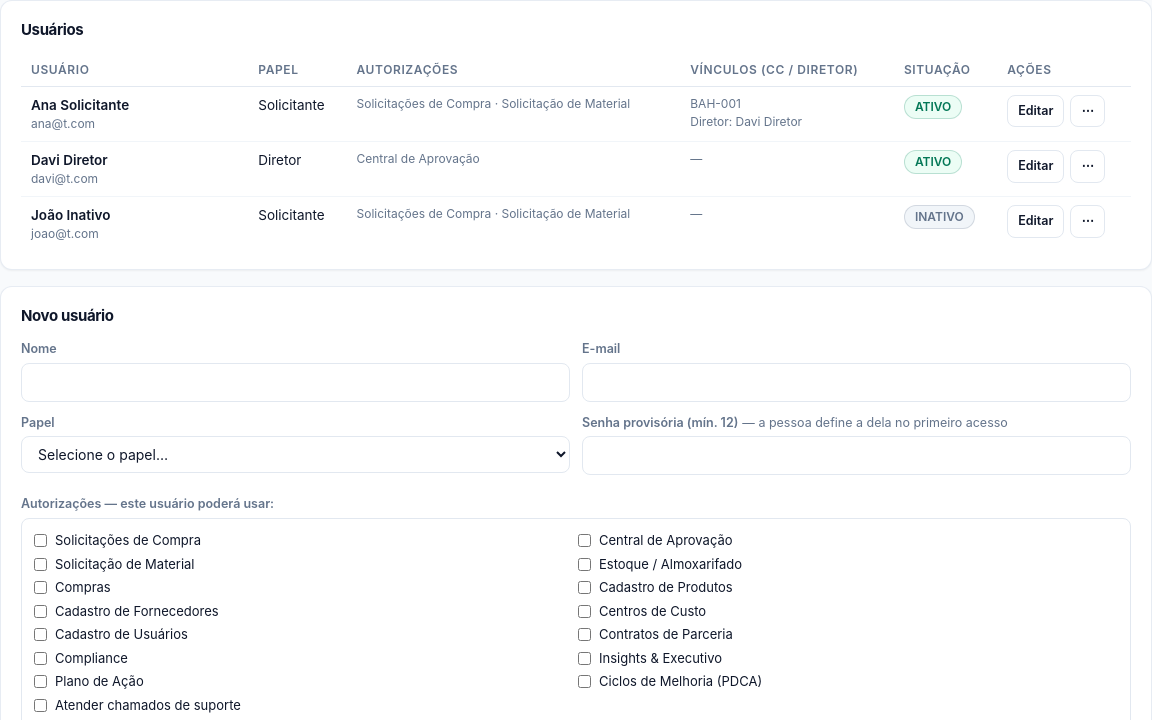
Test case: <Usuarios /> › escolher o papel sugere as autorizações daquele papel
Select "Aprovador" in the dropdown labelled "Papel": (296, 455) [21, 436, 570, 473]
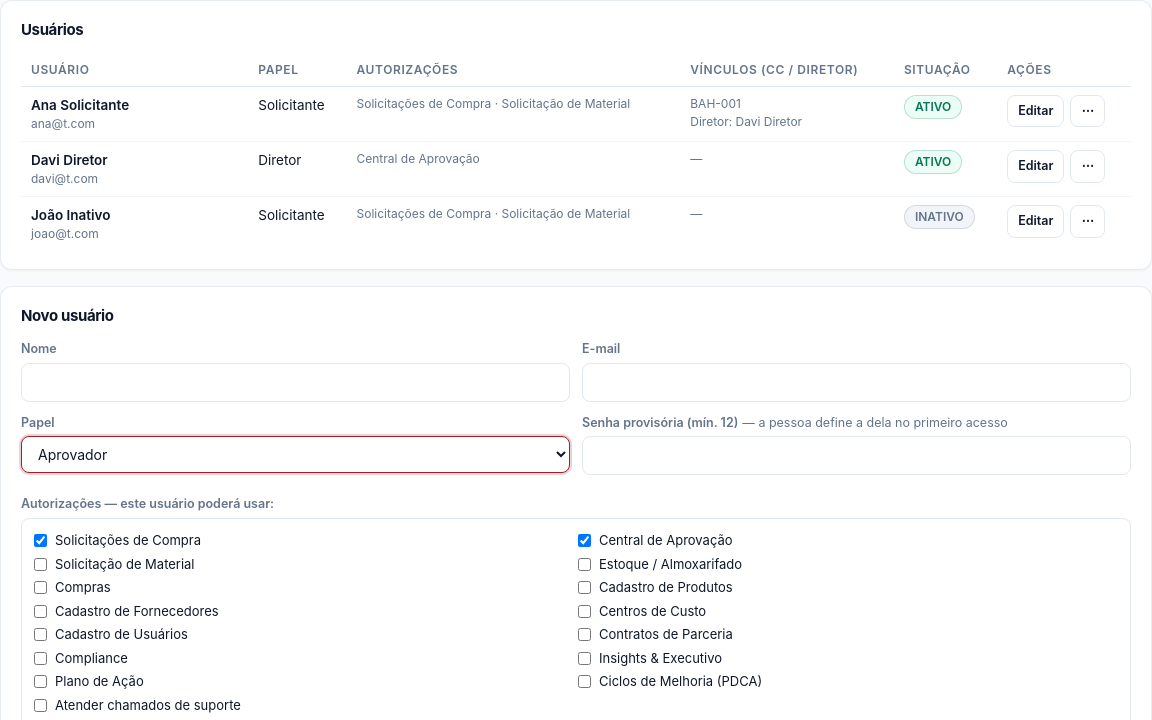
Expected: the checkbox labelled "Compras" is not checked, [34, 581, 47, 594]
Now the checkbox labelled "Central de Aprovação" is checked, box [578, 534, 591, 547]
